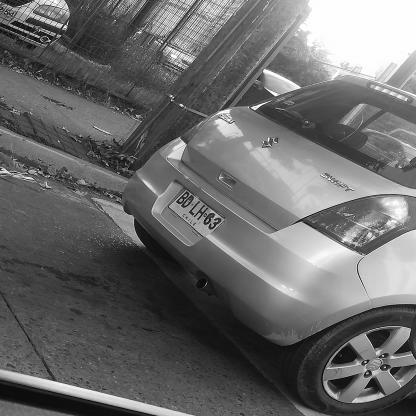Patente: (169, 188, 226, 237)
